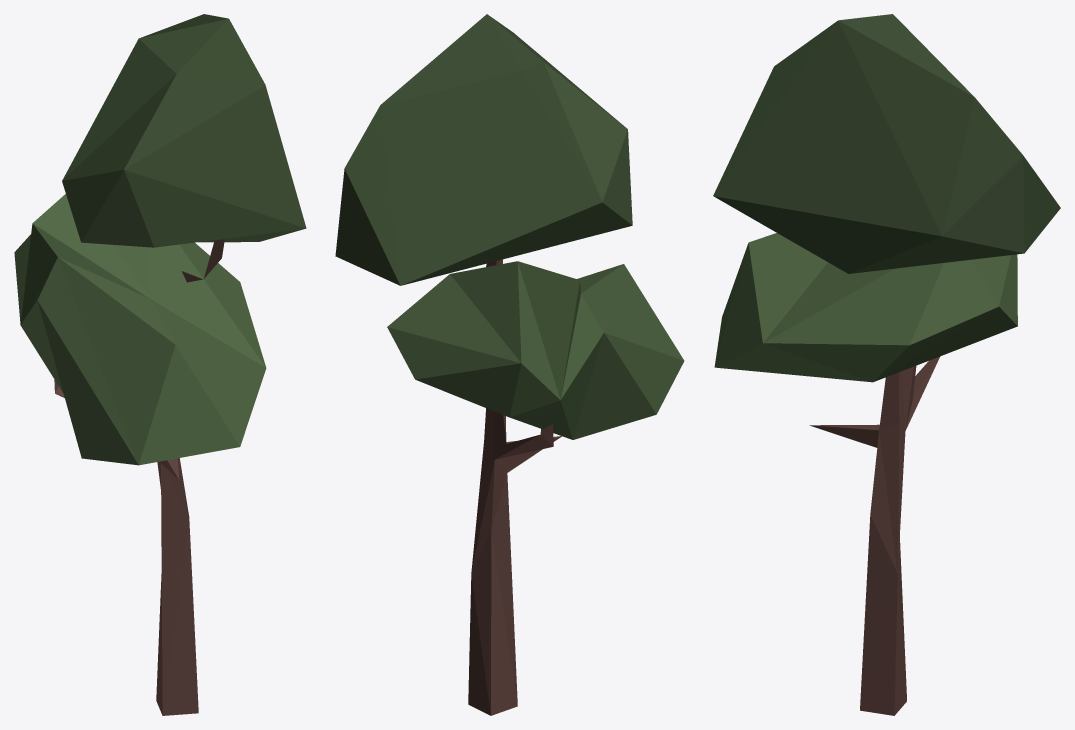
The model's file is qn_tree_c_lod.glb.
The picture shows the model from 3 angles, left to right: view 1: azimuth 30°, elevation 25°; view 2: azimuth 150°, elevation 25°; view 3: azimuth 270°, elevation 25°; orthographic projection. The views are drawn at different scales.
Parts seen in each view (by area): view 1: qn_tree_c_lod; view 2: qn_tree_c_lod; view 3: qn_tree_c_lod.
Boxes of the visible parts, x1=… form: qn_tree_c_lod: x1=14, y1=14, x2=306, y2=715; qn_tree_c_lod: x1=335, y1=14, x2=684, y2=715; qn_tree_c_lod: x1=713, y1=14, x2=1060, y2=715.
Bounding box in the file's own units: 1.26 × 3.45 × 1.55.
